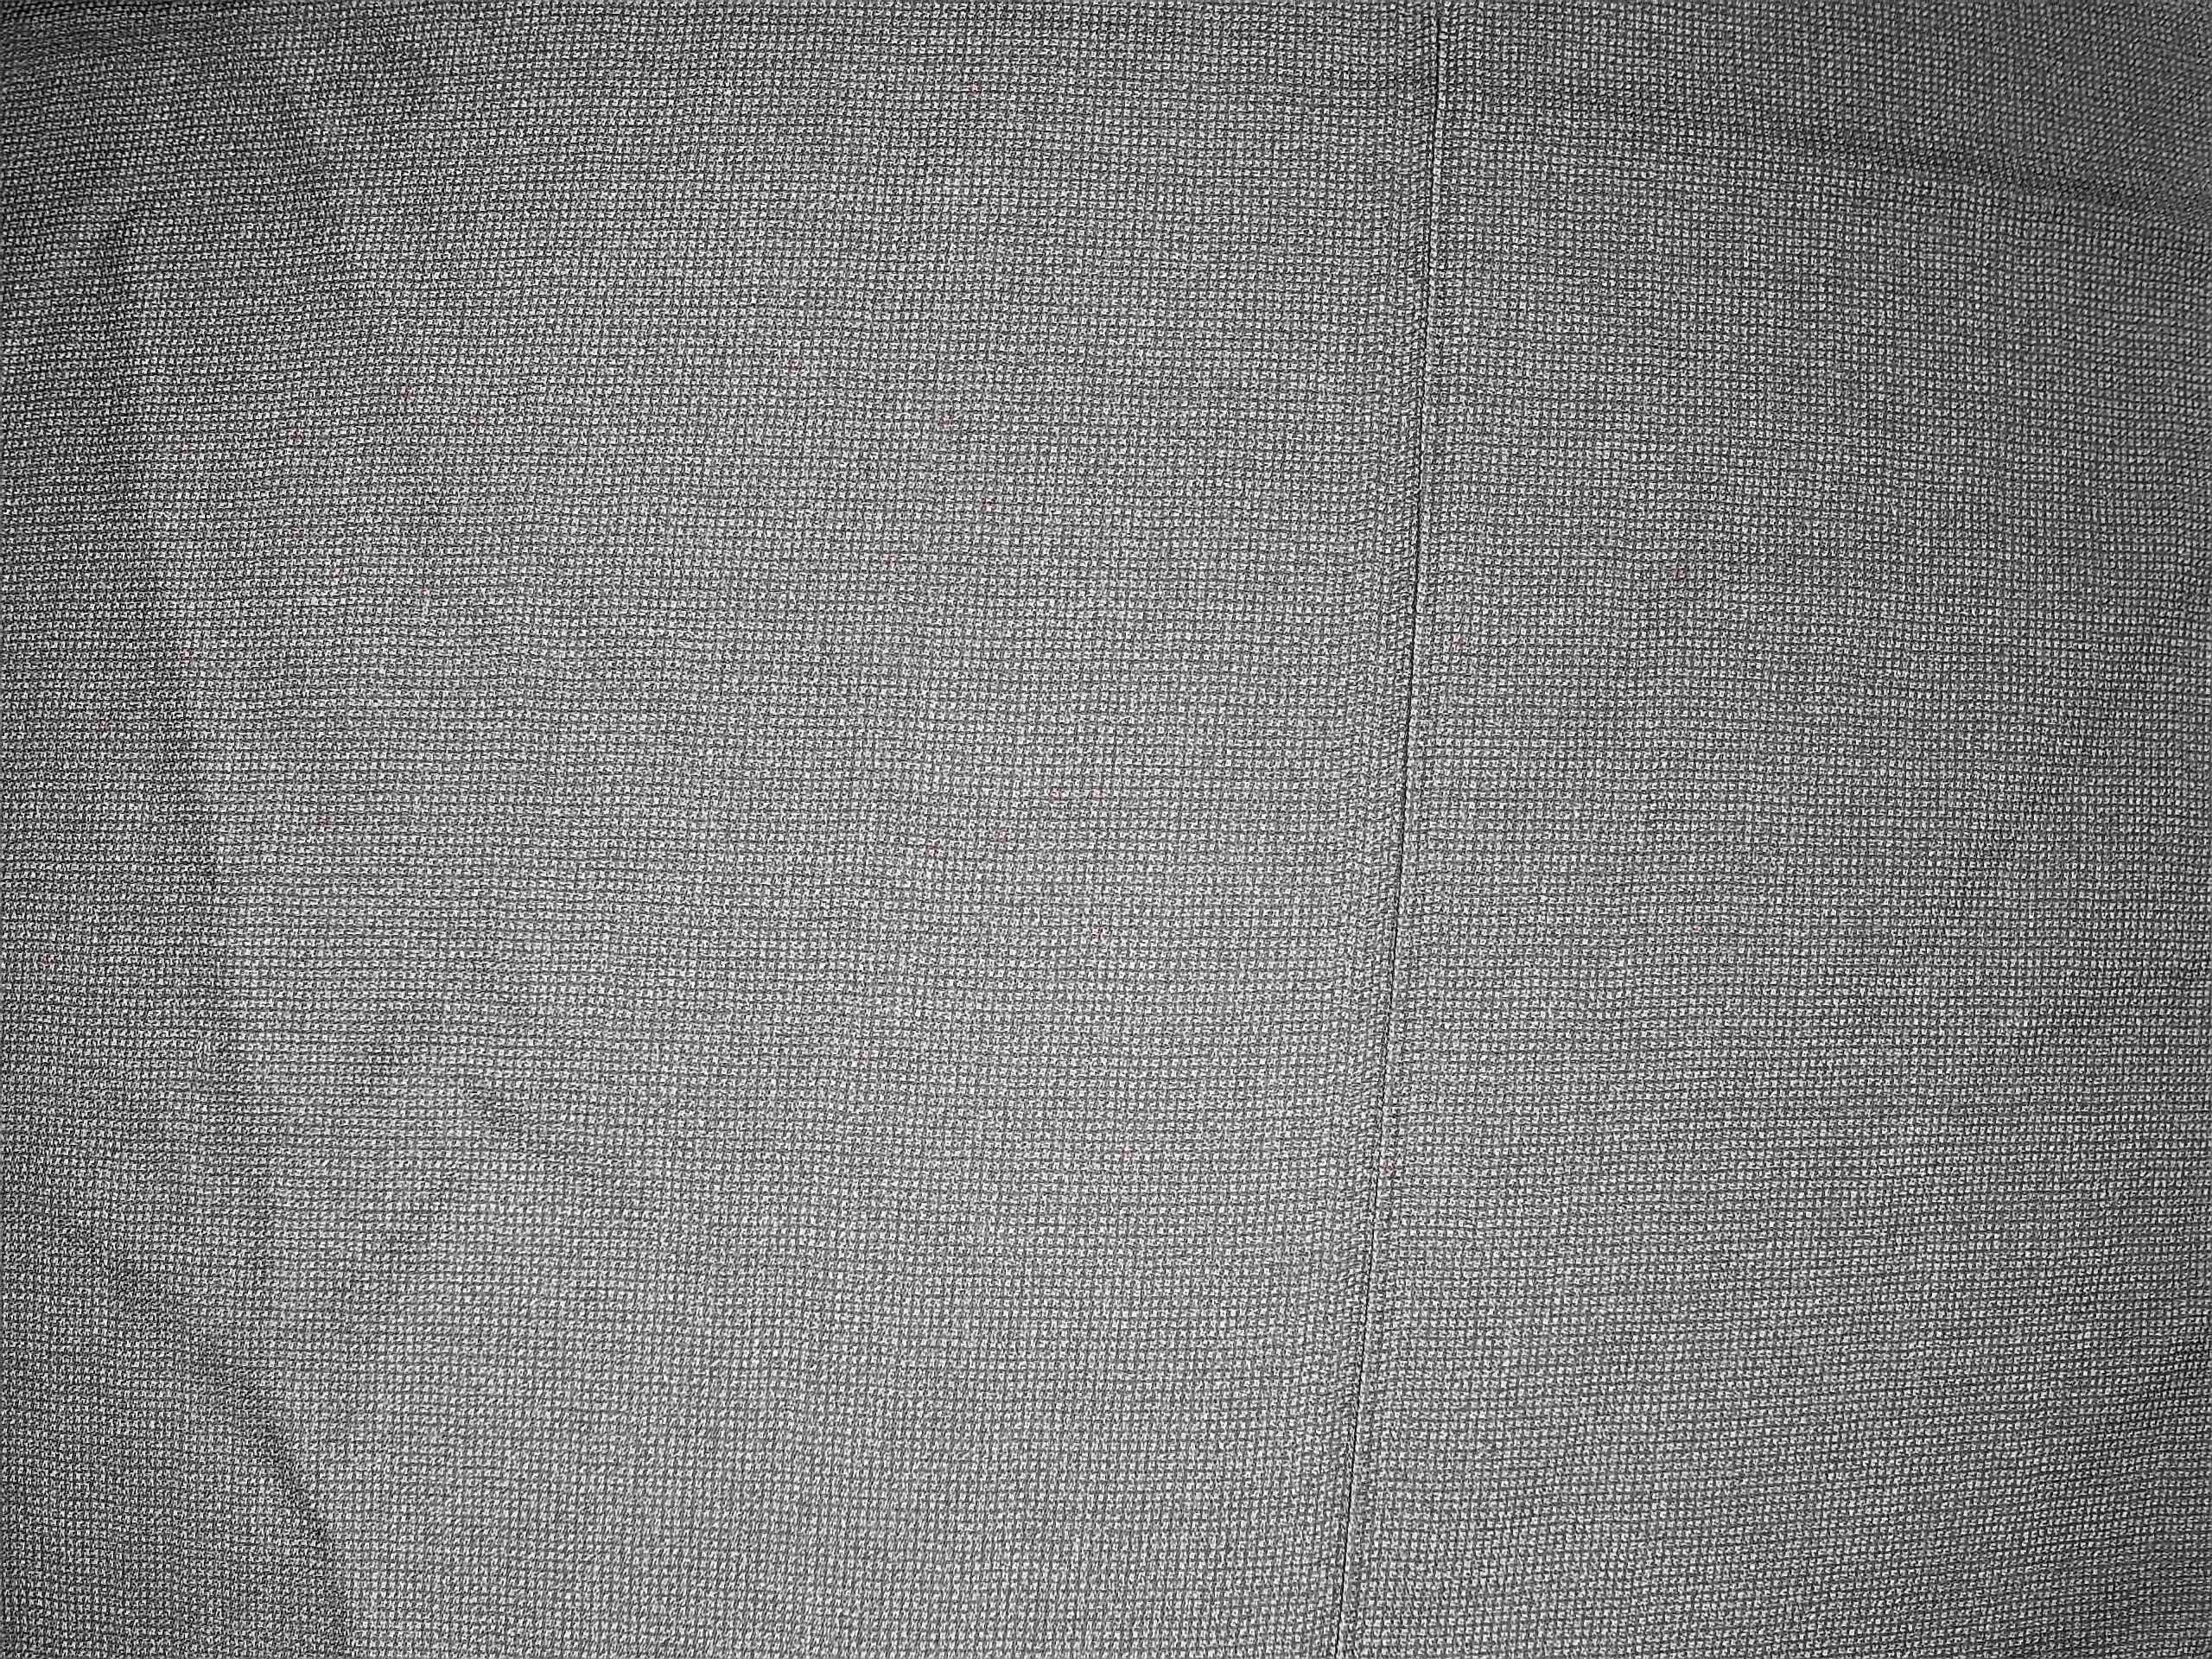others: (1327, 54, 1446, 1642)
